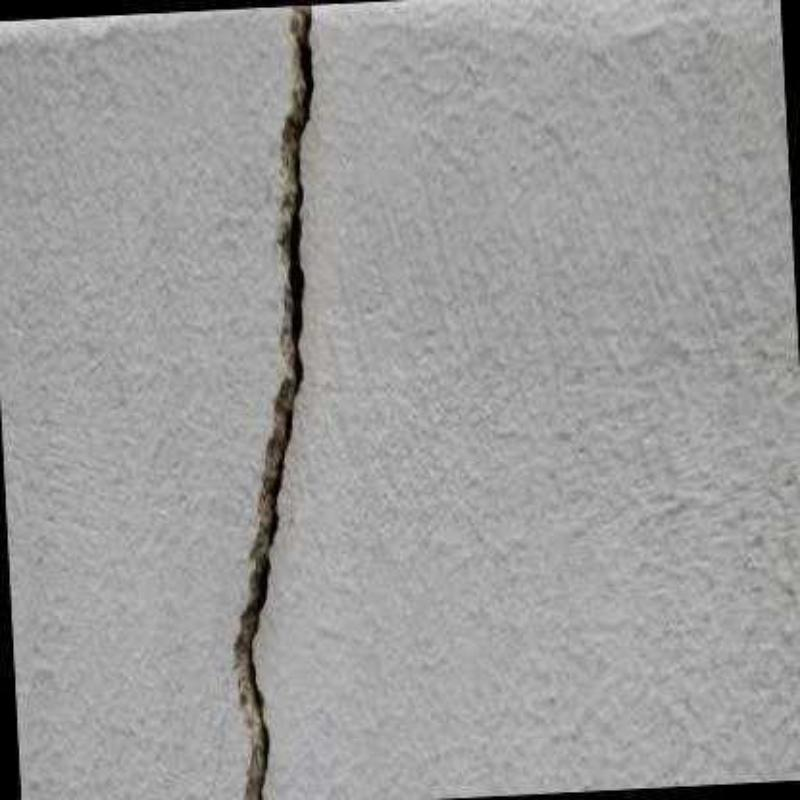pothole: (233, 4, 315, 800)
